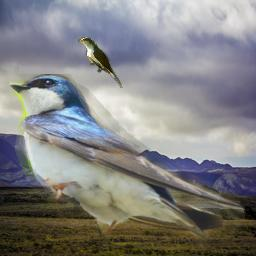Cuckoo: (78, 36, 123, 88)
Swallow: (9, 74, 245, 250)
